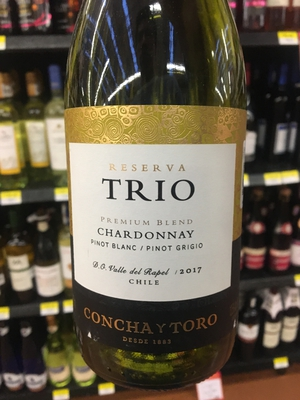trio chardonnay: (59, 9, 263, 400)
